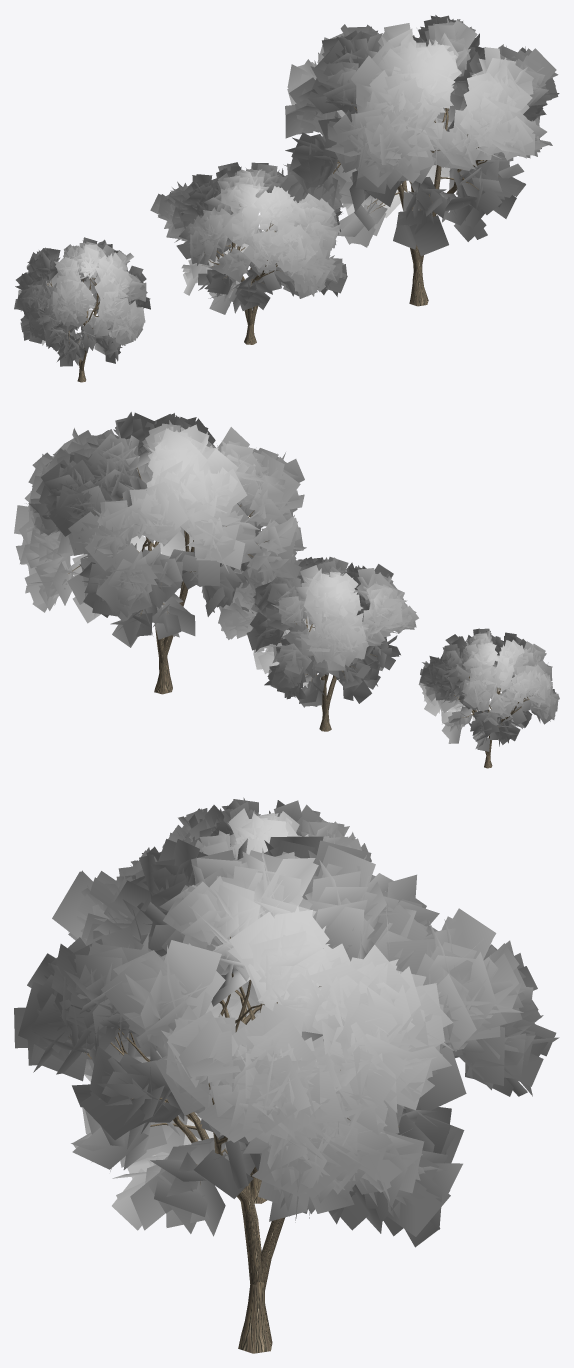
Rendered from V2_Split_Trees_1A1.fbx.
3 views of the same model, one above another, from view 1: azimuth 30°, elevation 25°; view 2: azimuth 150°, elevation 25°; view 3: azimuth 270°, elevation 25° (orthographic). The views are drawn at different scales.
Parts seen in each view (by area): view 1: Split_Tree_1A3, Split_Tree_1A2, Split_Tree_1A1; view 2: Split_Tree_1A3, Split_Tree_1A2, Split_Tree_1A1; view 3: Split_Tree_1A3, Split_Tree_1A1.
Part boxes in pixels (x1=…): Split_Tree_1A3: x1=279, y1=15, x2=559, y2=306; Split_Tree_1A2: x1=150, y1=162, x2=347, y2=344; Split_Tree_1A1: x1=14, y1=237, x2=150, y2=382; Split_Tree_1A3: x1=14, y1=412, x2=306, y2=694; Split_Tree_1A2: x1=218, y1=557, x2=418, y2=731; Split_Tree_1A1: x1=418, y1=628, x2=559, y2=768; Split_Tree_1A3: x1=14, y1=836, x2=559, y2=1353; Split_Tree_1A1: x1=130, y1=797, x2=373, y2=875.
Size of what is drawn, in the model's own units: 3196 by 1558 by 1586.
